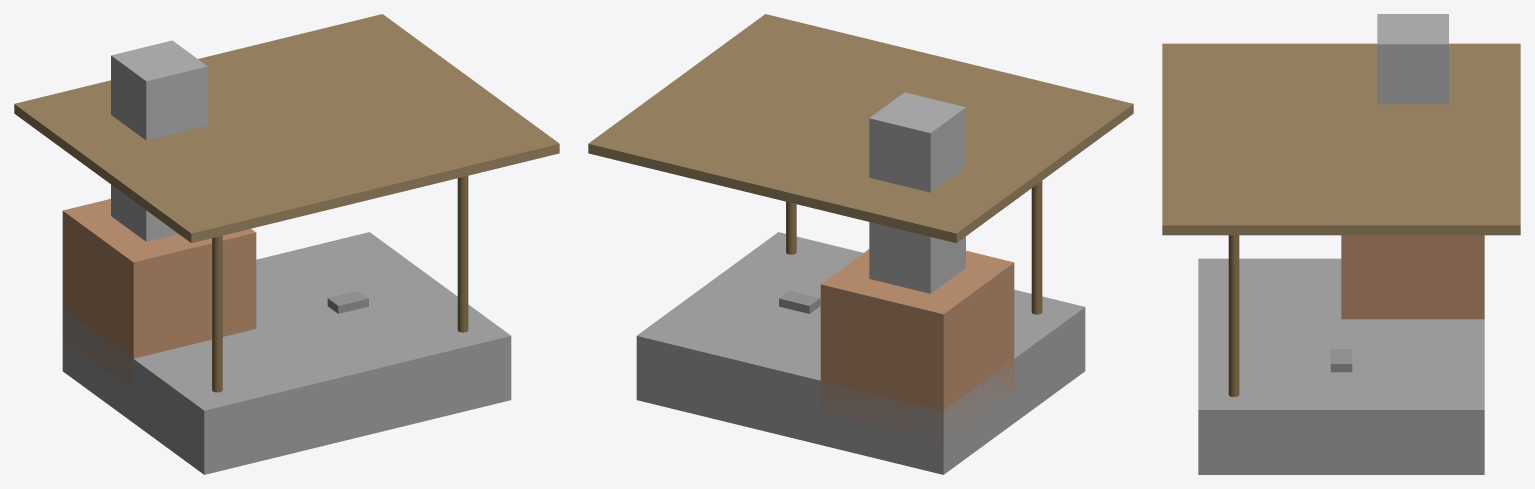
The model's file is env-med-forge.glb.
3 views of the same model, side by side, from view 1: azimuth 30°, elevation 25°; view 2: azimuth 150°, elevation 25°; view 3: azimuth 270°, elevation 25° (orthographic).
Size of the model in its own units: 6 by 5 by 5.
